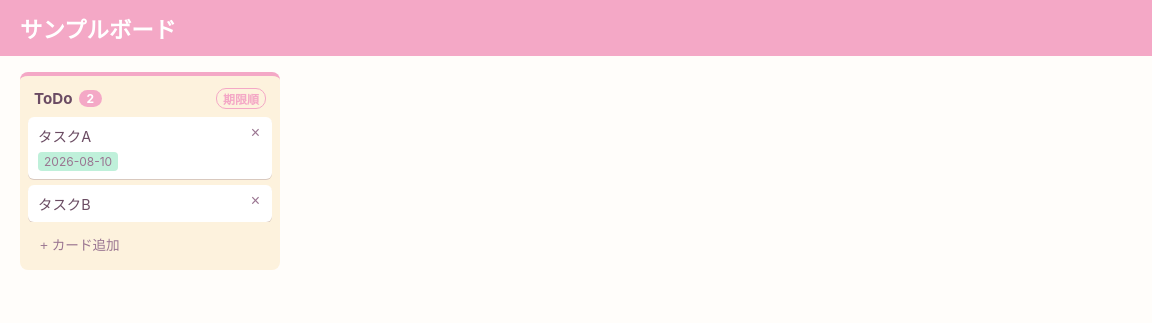
Scenario: BoardScreen › 並べ替えに失敗するとカードエラーメッセージを表示する
Check: the heading "サンプルボード" is shown, box [20,16,176,43]
What coordinates should you click on to do the following:
click the button "期限順"
I would click on:
 (241, 98)
Its box is [216,88,266,109].
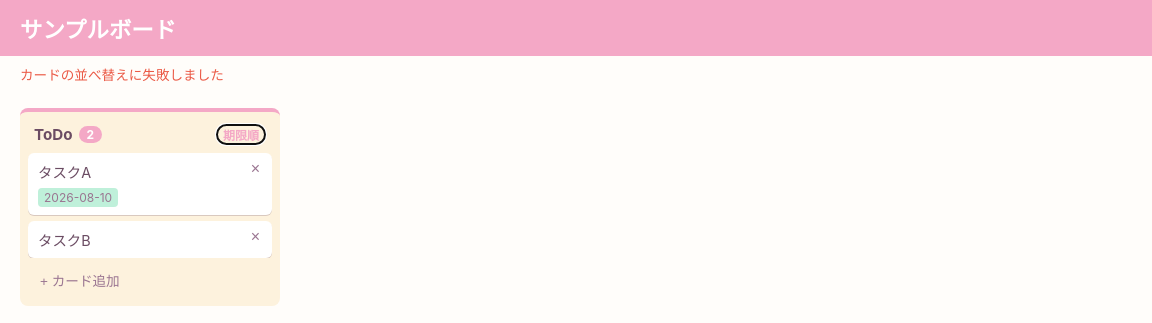
Check: the text "カードの並べ替えに失敗しました" is shown, box [20,67,224,83]
